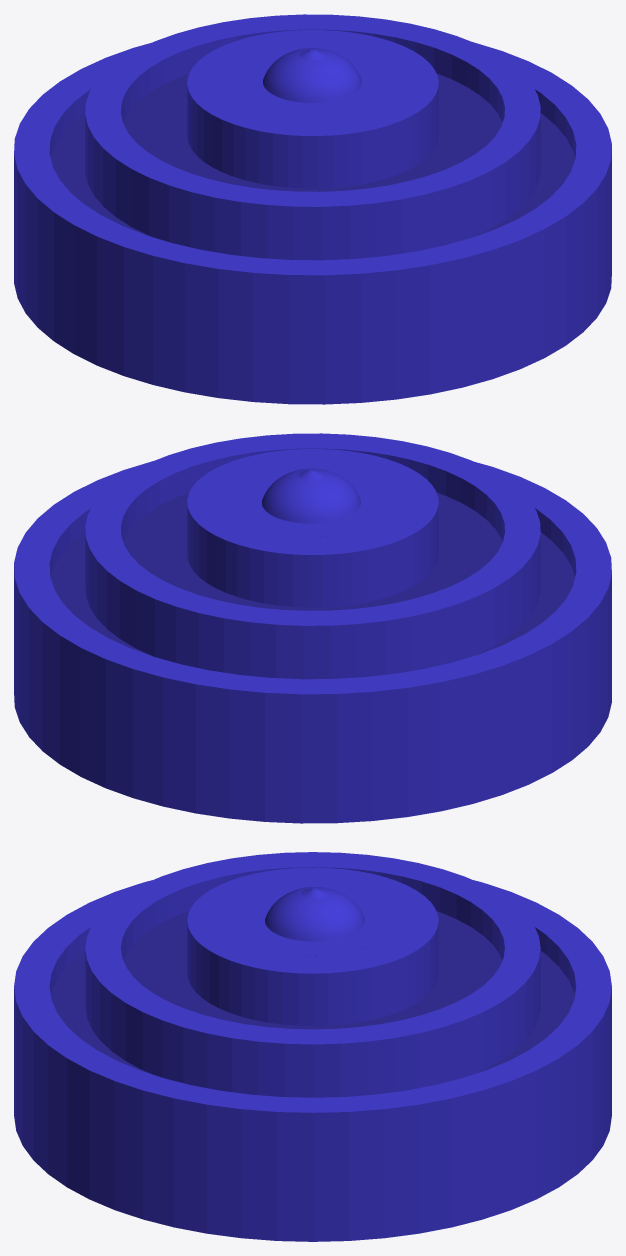
Rendered from Blue Stinger2.fbx.
3 renders of one model, top to bottom at view 1: azimuth 30°, elevation 25°; view 2: azimuth 150°, elevation 25°; view 3: azimuth 270°, elevation 25°, orthographic.
Parts seen in each view (by area): view 1: Blue Stinger; view 2: Blue Stinger; view 3: Blue Stinger.
Boxes of the visible parts, left/top/right/bottom form: Blue Stinger: left=14, top=14, right=611, bottom=404; Blue Stinger: left=14, top=433, right=611, bottom=823; Blue Stinger: left=14, top=852, right=611, bottom=1241.
Size of the model in its own units: 57.84 by 24.18 by 57.84.
